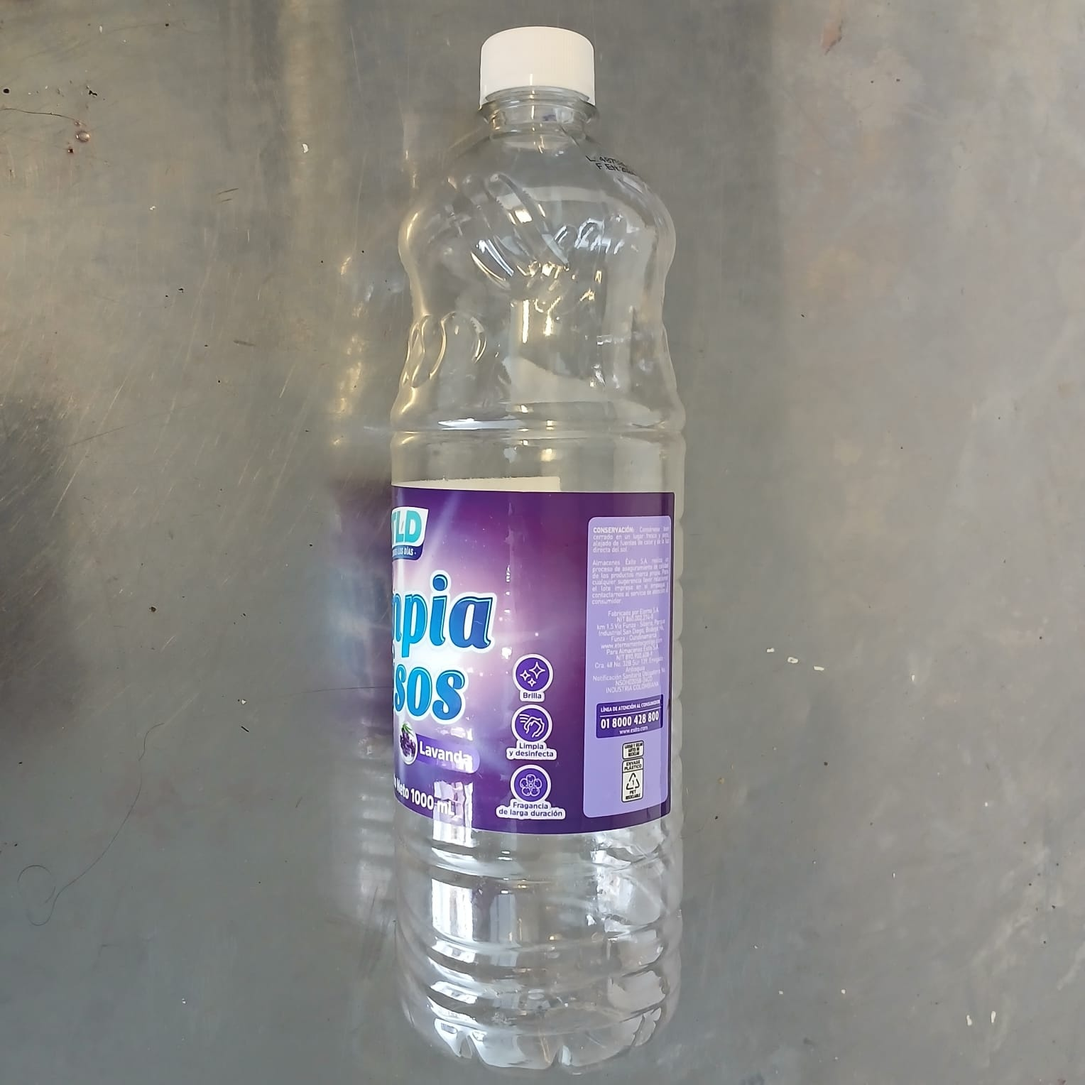Plastico: (387, 26, 686, 1073)
